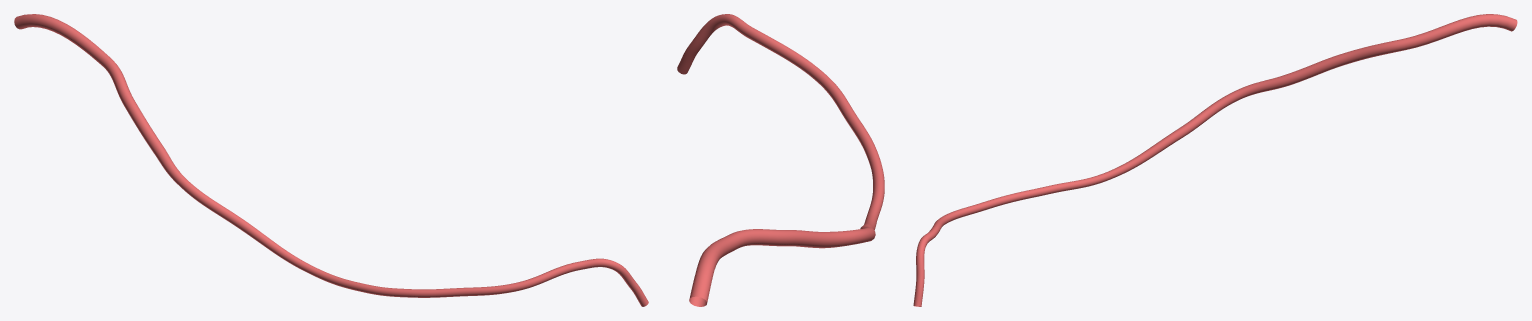
The model's file is Transverse_facial_artery.r.001_BezierCurve.106.glb.
The picture shows the model from 3 angles, left to right: view 1: azimuth 30°, elevation 25°; view 2: azimuth 150°, elevation 25°; view 3: azimuth 270°, elevation 25°; orthographic projection. The views are drawn at different scales.
Parts seen in each view (by area): view 1: Transverse_facial_artery.r.001_BezierCurve.106; view 2: Transverse_facial_artery.r.001_BezierCurve.106; view 3: Transverse_facial_artery.r.001_BezierCurve.106.
Boxes of the visible parts, box(x1,y1,x2,y2) form: Transverse_facial_artery.r.001_BezierCurve.106: box(14, 14, 648, 306); Transverse_facial_artery.r.001_BezierCurve.106: box(677, 14, 884, 306); Transverse_facial_artery.r.001_BezierCurve.106: box(913, 14, 1517, 306).
Bounding box in the file's own units: 0.0444 × 0.0197 × 0.0731.
